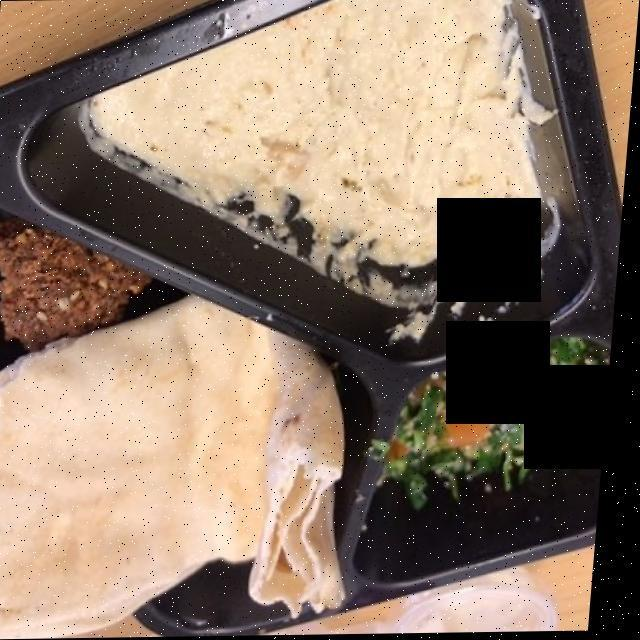beef: (0, 233, 166, 359)
hummus: (89, 0, 558, 299)
taboule-prepared-with-couscous: (387, 353, 589, 503)
